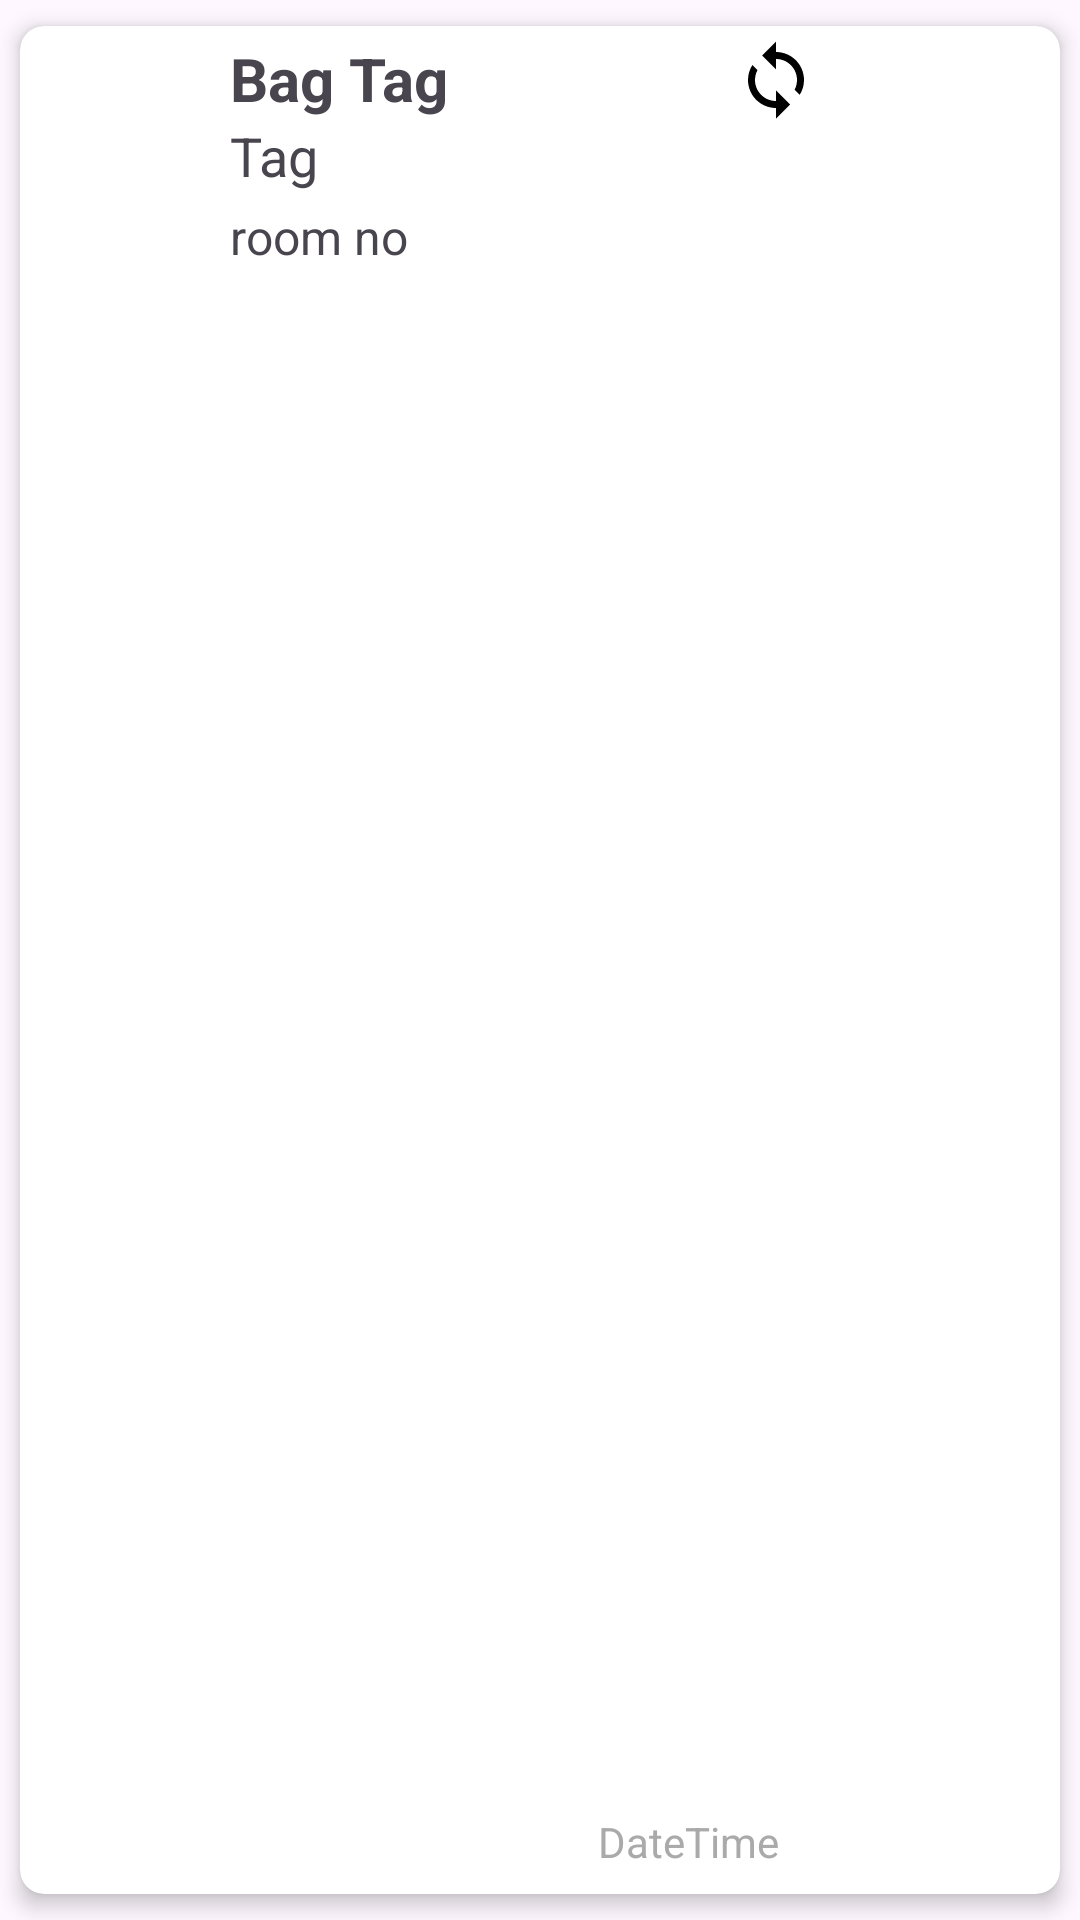

Icons on this 1080px×1920px Android screen, each with its box as (x1, y1, x2, y2):
sync: (748, 42, 804, 119)
